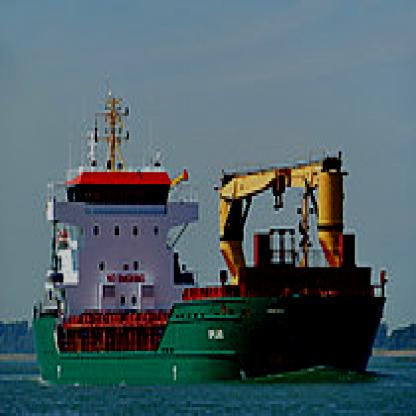Tanker: (28, 83, 392, 395)
